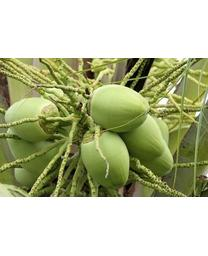coconut: (89, 84, 149, 134), (124, 114, 174, 174), (81, 127, 128, 190), (3, 97, 60, 142)
